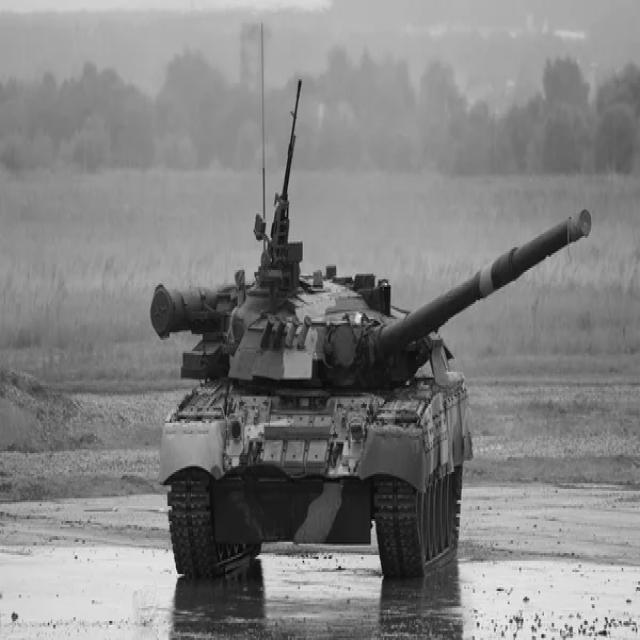Tank: (148, 115, 595, 593)
